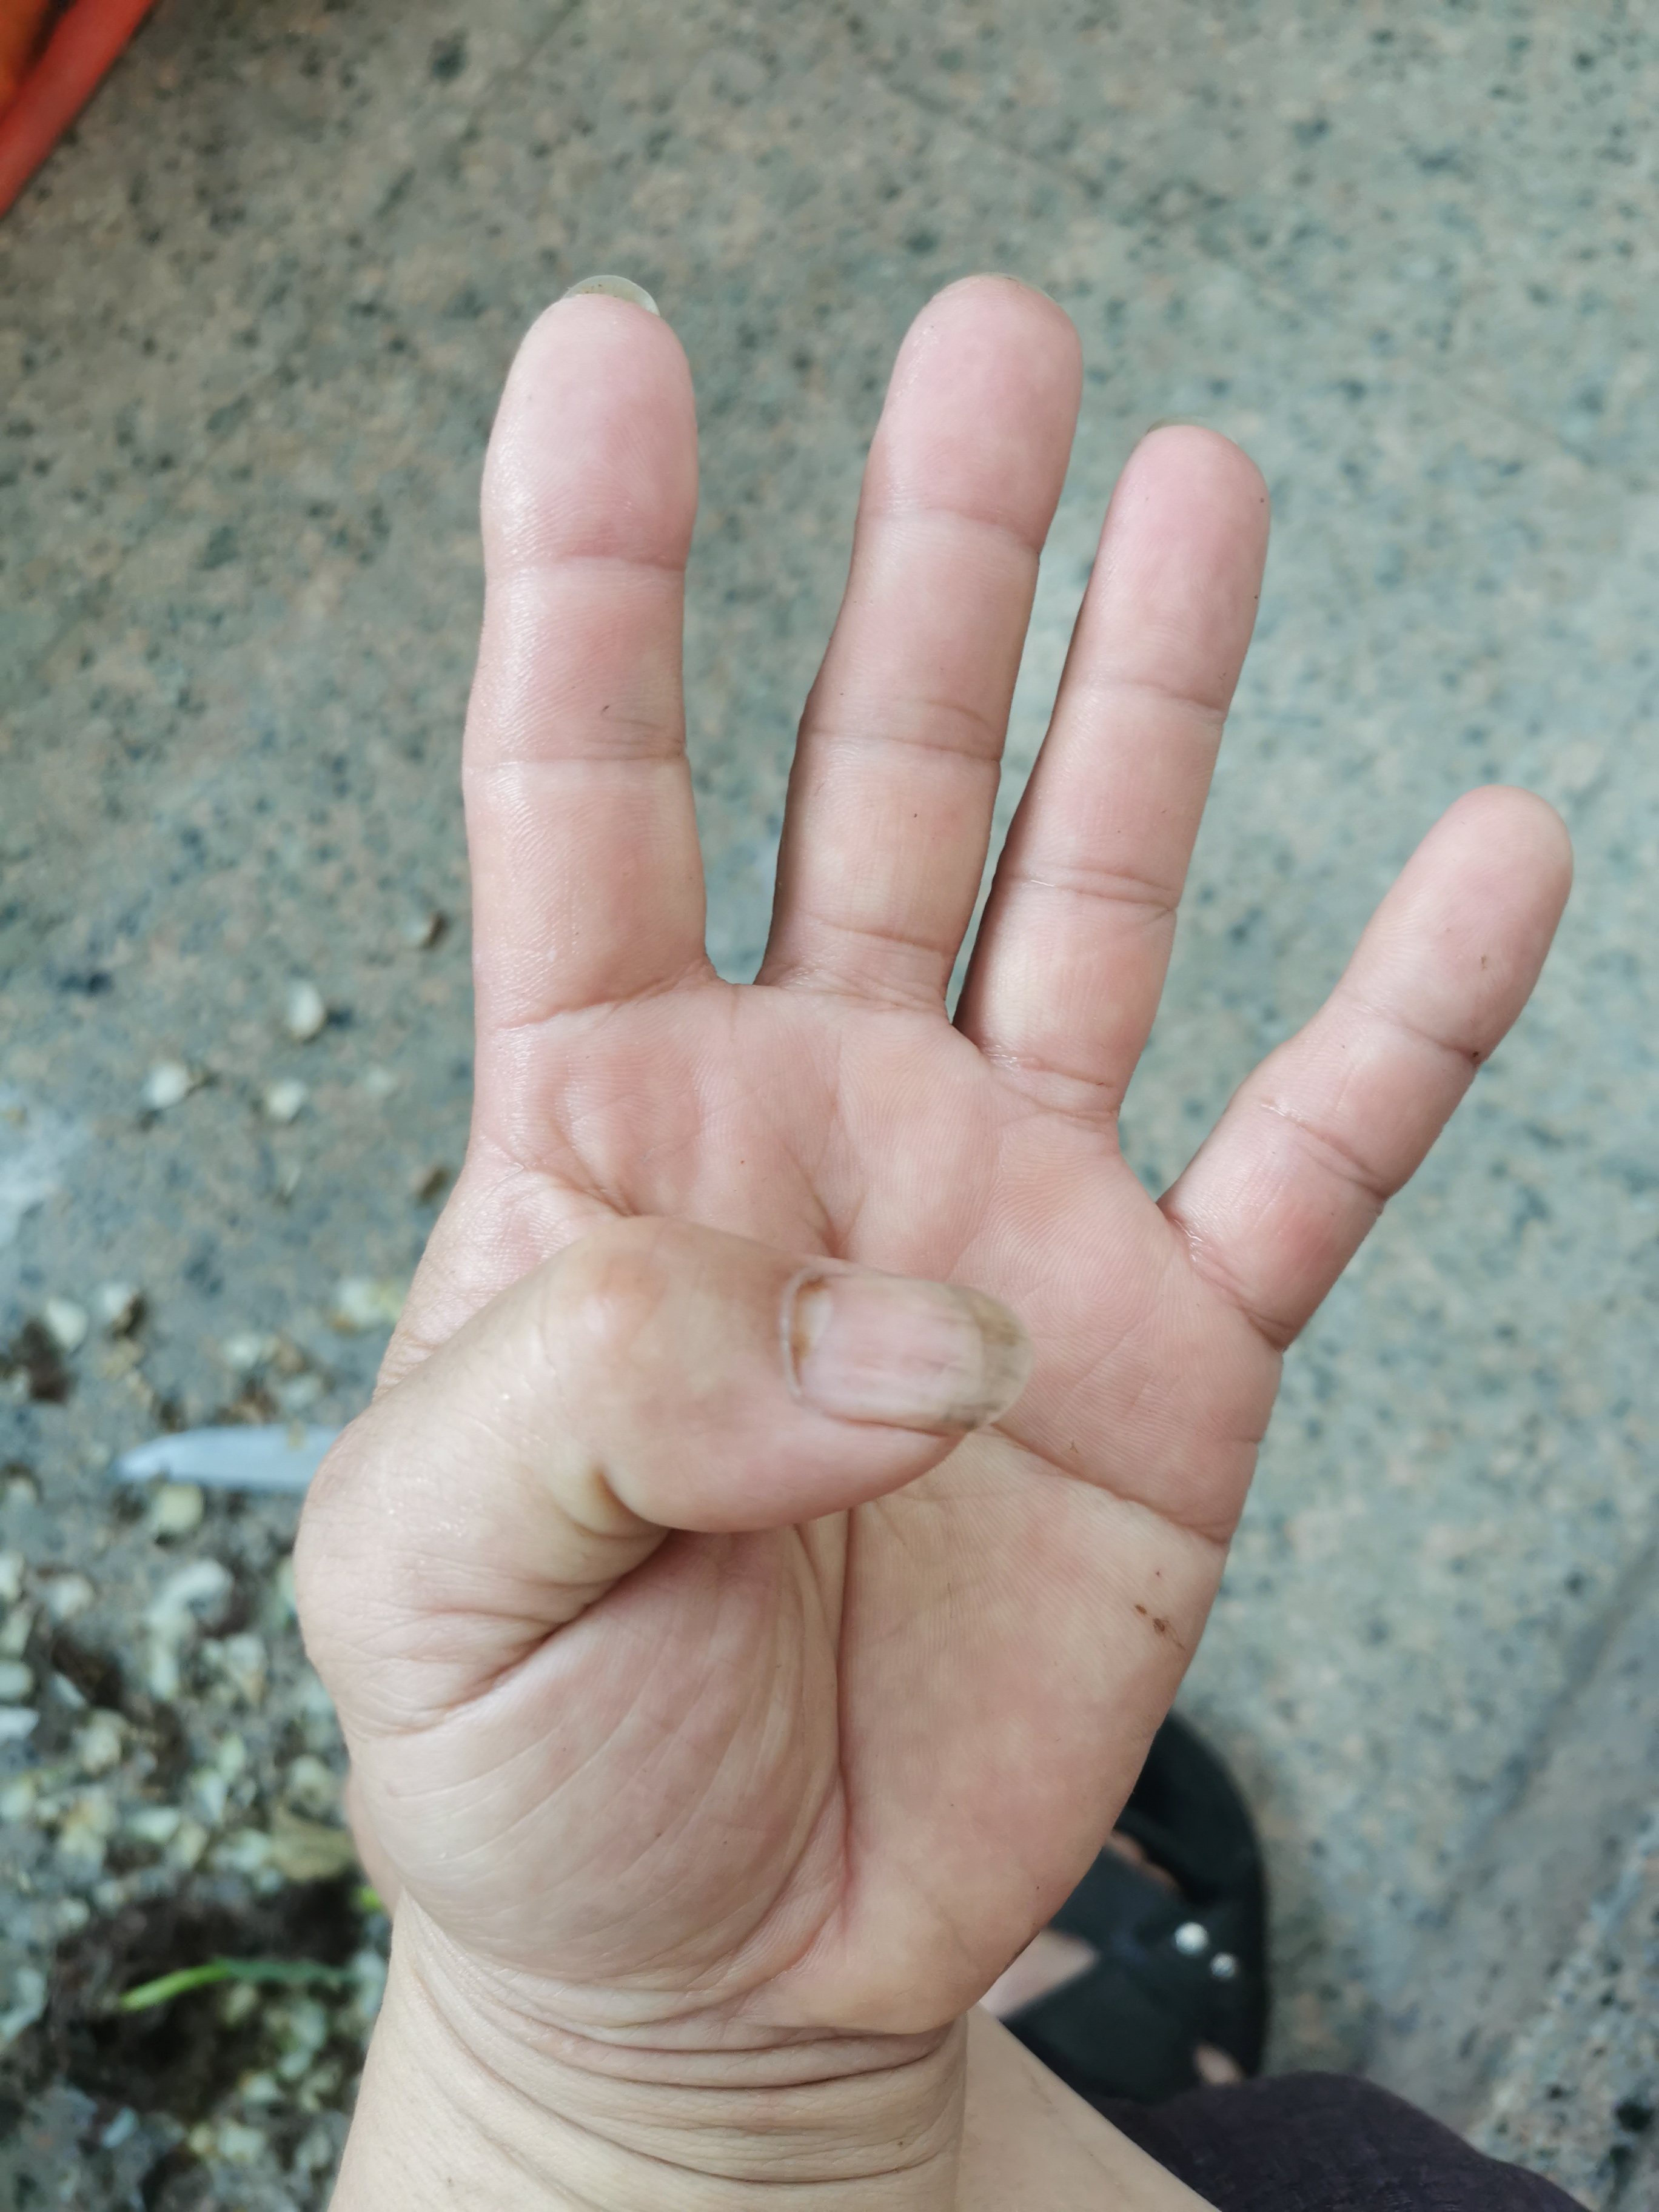right: (261, 233, 1589, 1989)
